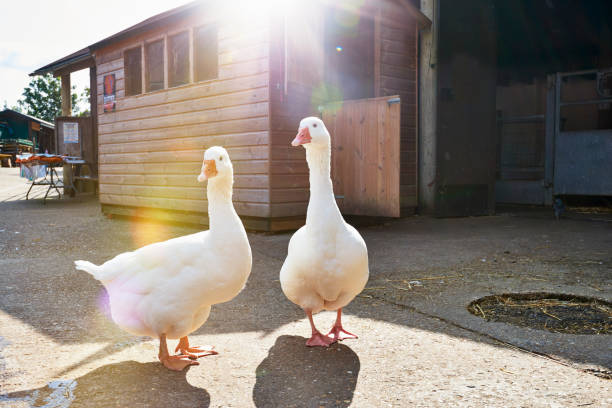goose: (74, 144, 254, 372), (277, 115, 371, 352)
